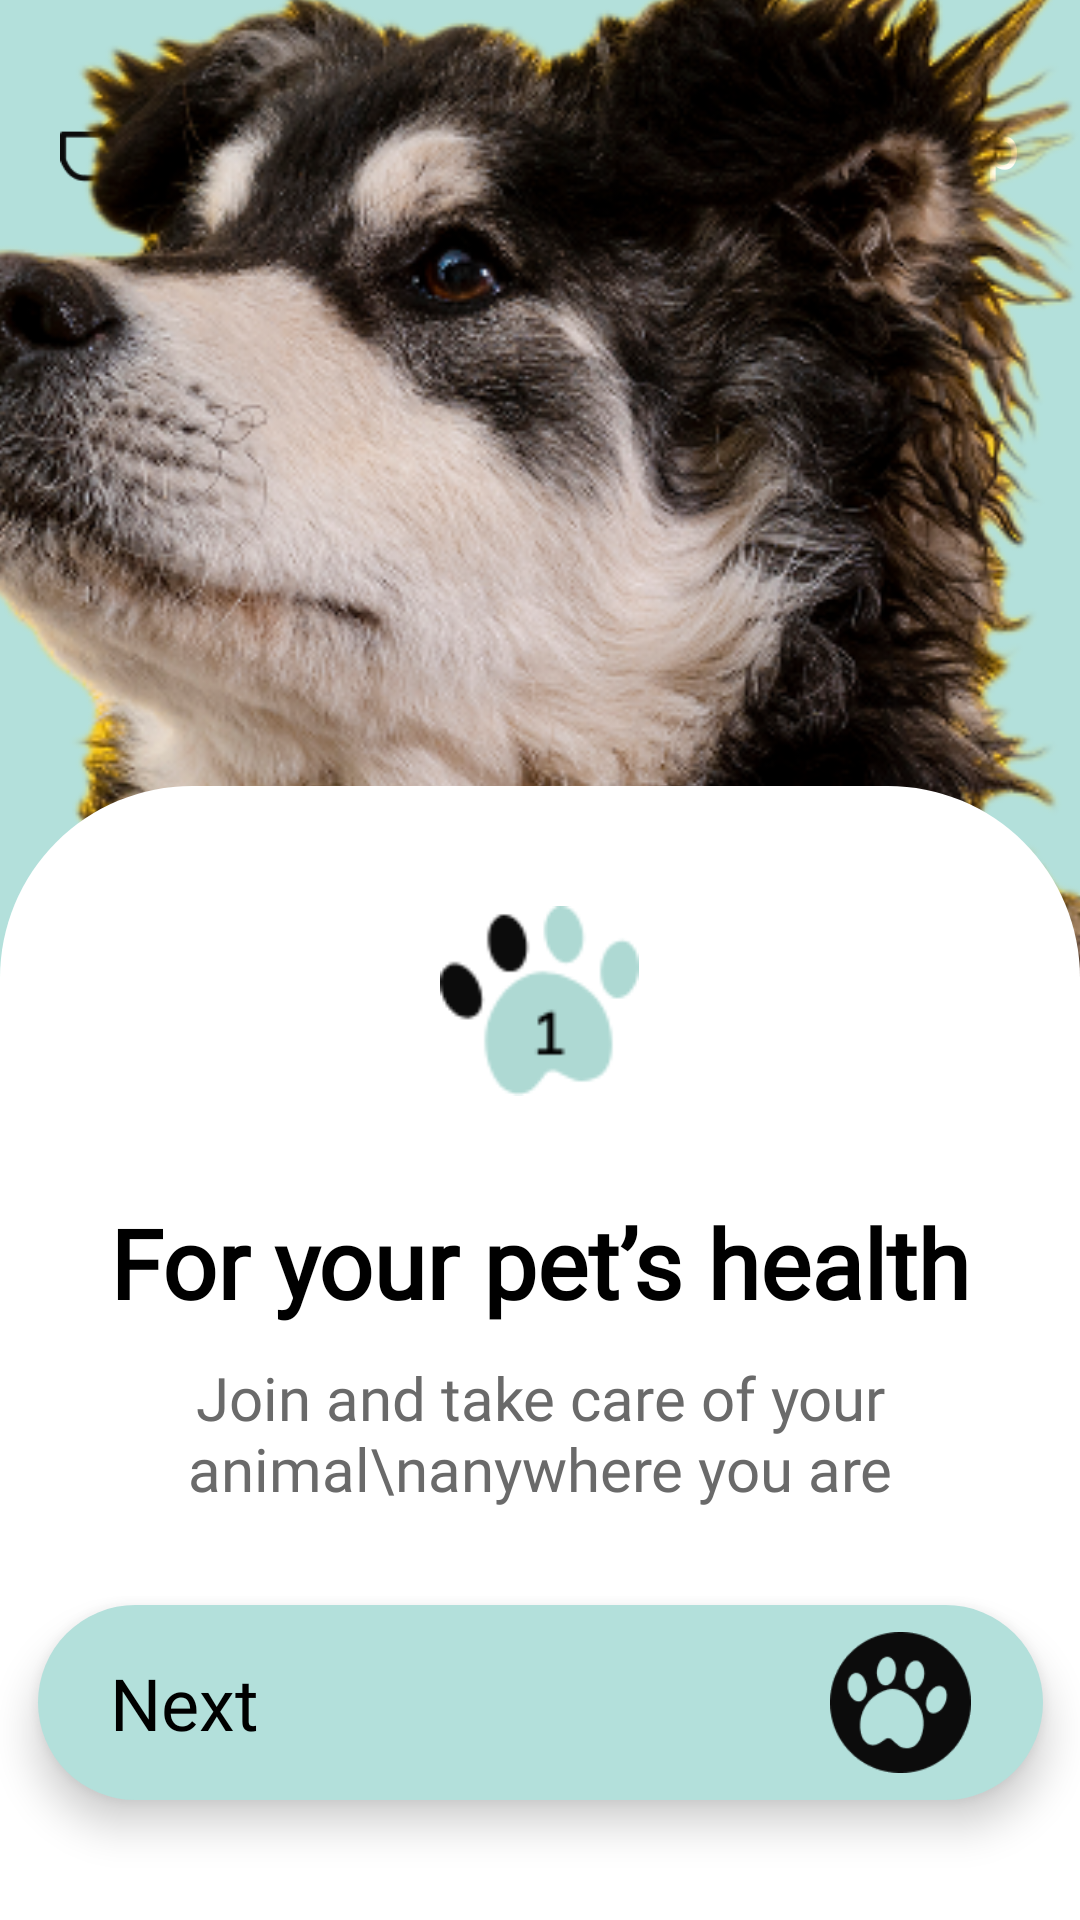

Where icons sit on this 1080 x 1920 app screen, as (x1, y1, x2, y2):
pata: (440, 906, 639, 1094), (830, 1632, 971, 1773)
